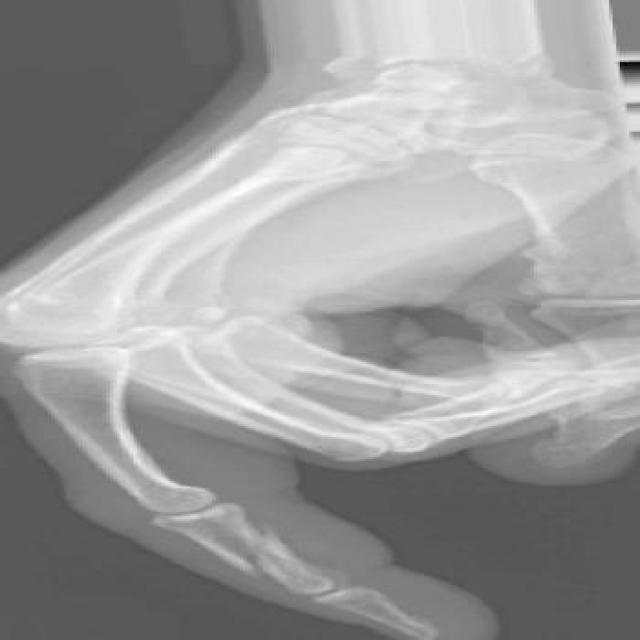Fracture: (219, 518, 309, 577)
